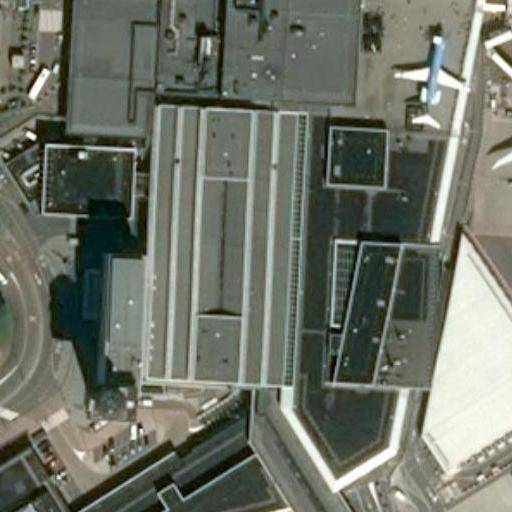Aircraft: (385, 22, 467, 125), (488, 59, 512, 233)
